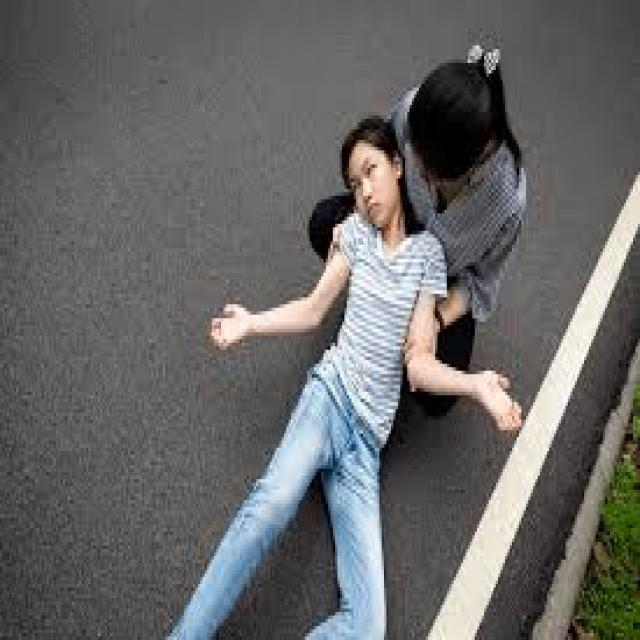unconscious people: (223, 73, 468, 640)
